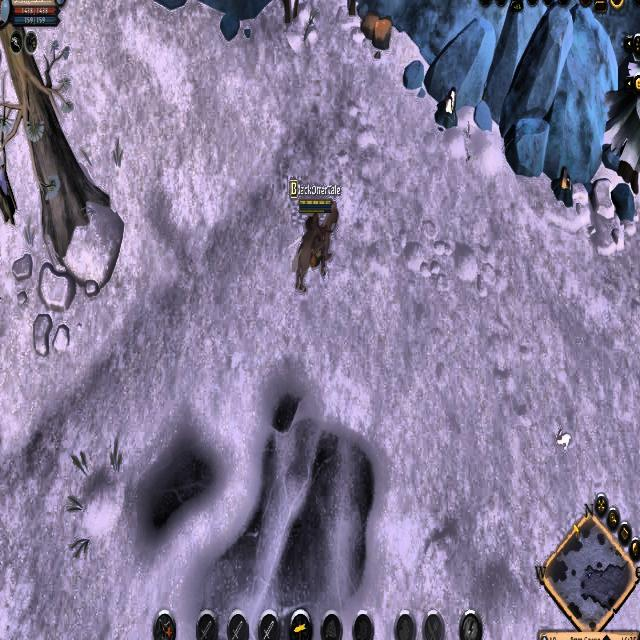copperore: (550, 163, 576, 209), (435, 86, 460, 130)
limestone: (358, 6, 395, 54)
